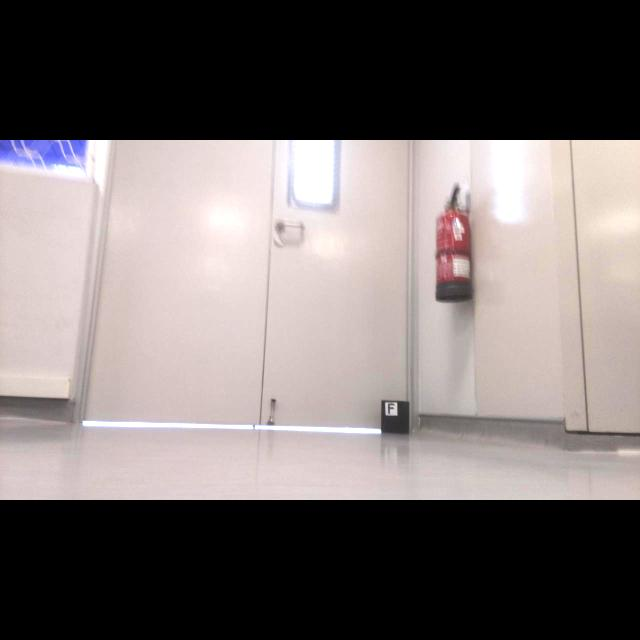F: (388, 404, 395, 415)
